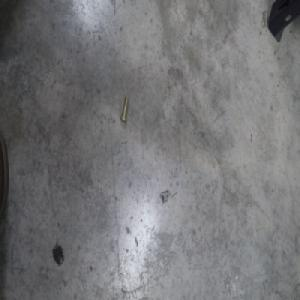Bolt: (119, 95, 129, 123)
